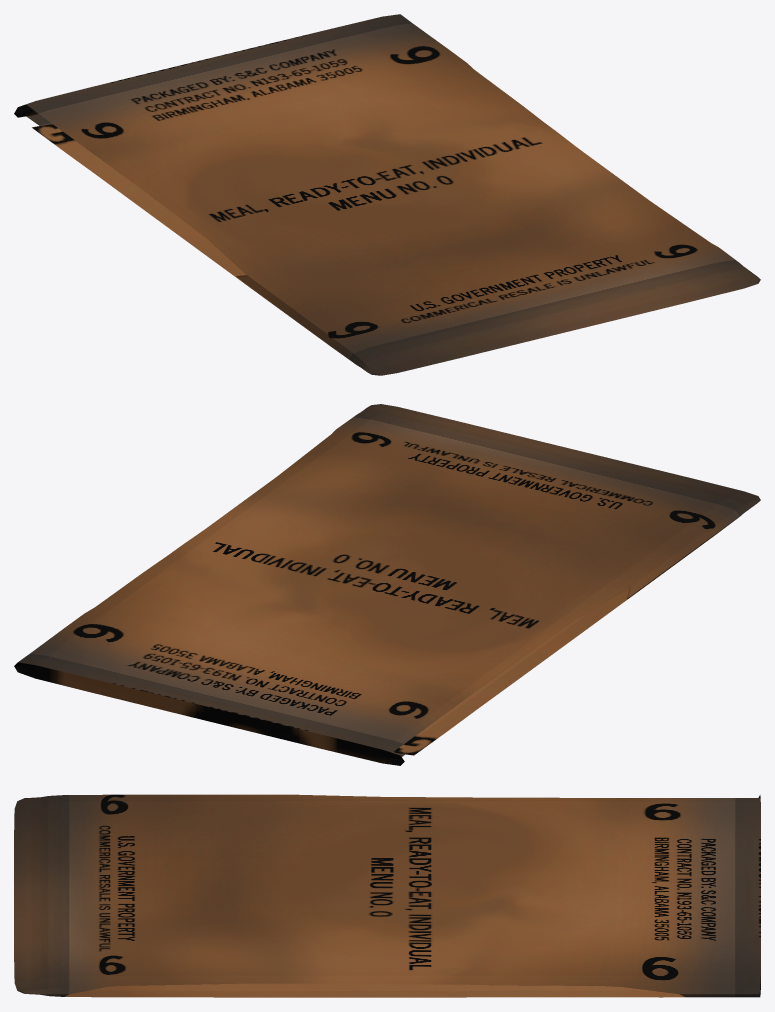
Rendered from MREWrapper.fbx.
3 views of the same model, one above another, from view 1: azimuth 30°, elevation 25°; view 2: azimuth 150°, elevation 25°; view 3: azimuth 270°, elevation 25° (orthographic). The views are drawn at different scales.
Parts seen in each view (by area): view 1: Cube.001; view 2: Cube.001; view 3: Cube.001.
Part boxes in pixels (box(x1,y1,x2,y2)): Cube.001: box(14, 14, 760, 375); Cube.001: box(14, 404, 760, 765); Cube.001: box(14, 794, 760, 997).
Size of the model in its own units: 0.1454 by 0.0055 by 0.2336.
